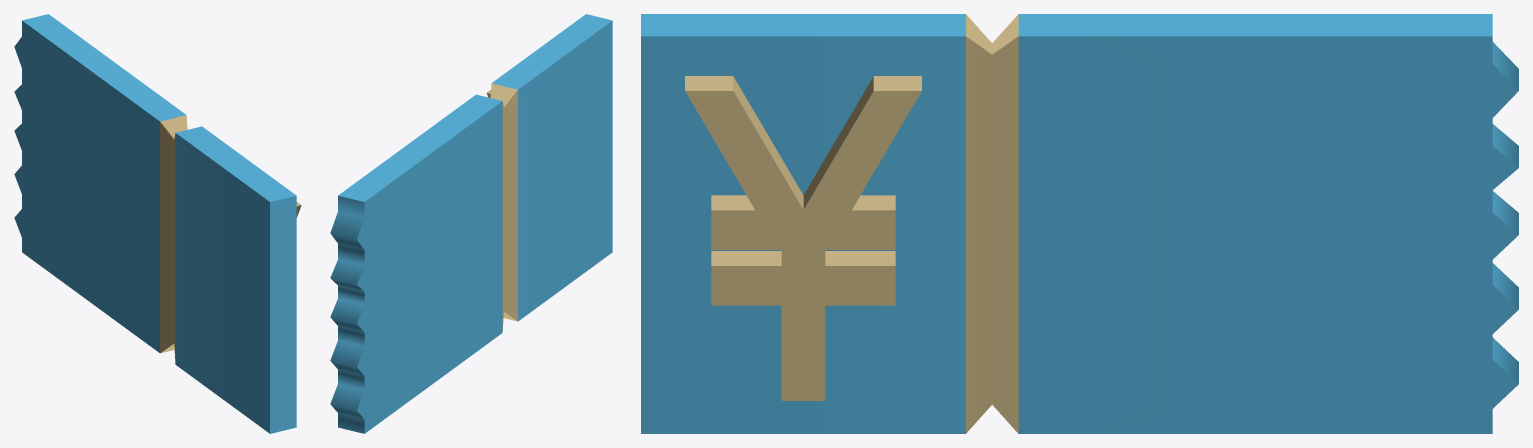
File: SM_Prop_Coupon_01.fbx
The picture shows the model from 3 angles, left to right: view 1: azimuth 30°, elevation 25°; view 2: azimuth 150°, elevation 25°; view 3: azimuth 270°, elevation 25°; orthographic projection. The views are drawn at different scales.
Visible parts, largest first — view 1: Coupon; view 2: Coupon; view 3: Coupon, MoneySign.
Part boxes in pixels (x1,y1,x2,y2): Coupon: (14,14,296,433); Coupon: (330,14,612,433); Coupon: (641,14,1518,433); MoneySign: (685,76,921,400).
Size of the model in its own units: 5 by 25 by 50.
